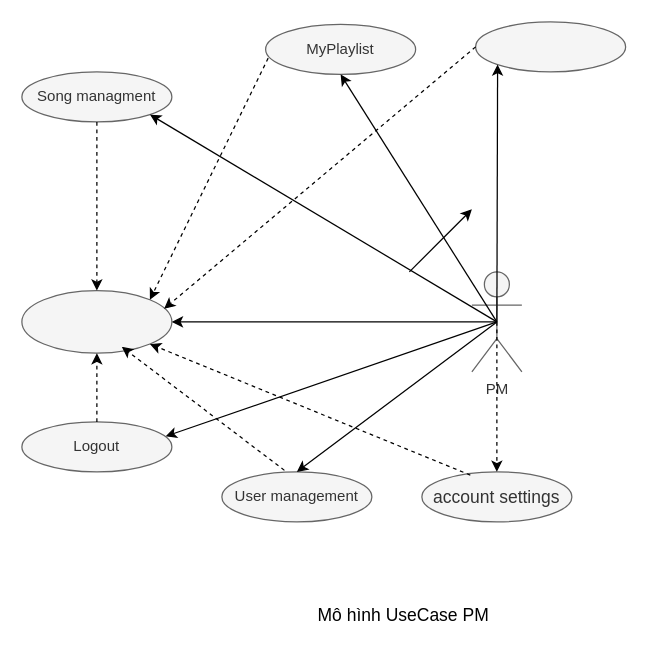
The diagram is 648 pixels wide and 656 high, and some of its shapes have lost their labels. Each missing label, with the centre of its shape:
"Login" belongs at point 96,321.
"PlayList management" belongs at point 550,46.
